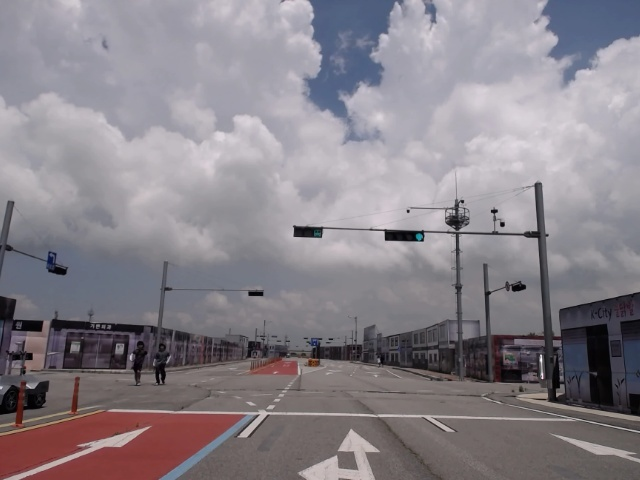straight_green_4: (385, 231, 425, 242)
